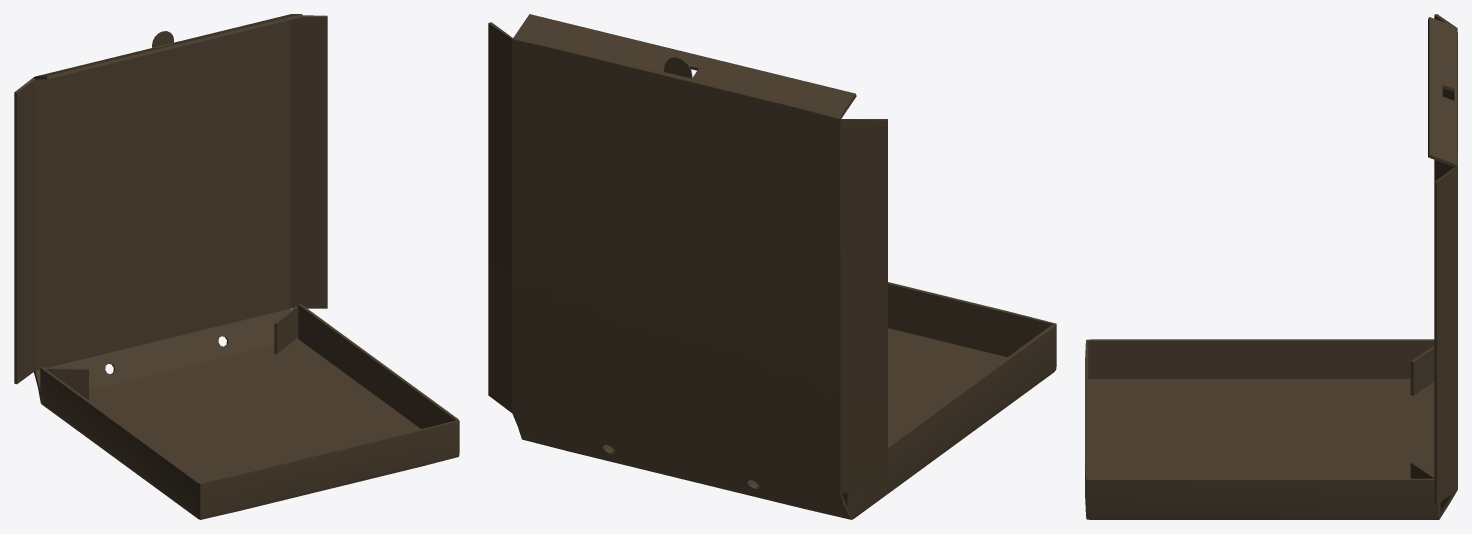
The model's file is pizza-box.glb.
The picture shows the model from 3 angles, left to right: view 1: azimuth 30°, elevation 25°; view 2: azimuth 150°, elevation 25°; view 3: azimuth 270°, elevation 25°; orthographic projection. The views are drawn at different scales.
Parts seen in each view (by area): view 1: box; view 2: box; view 3: box.
Boxes of the visible parts, left/top/right/bottom form: box: left=14, top=14, right=459, bottom=519; box: left=488, top=14, right=1056, bottom=519; box: left=1085, top=14, right=1457, bottom=519.
Size of the model in its own units: 2.28 by 2.34 by 2.13.
